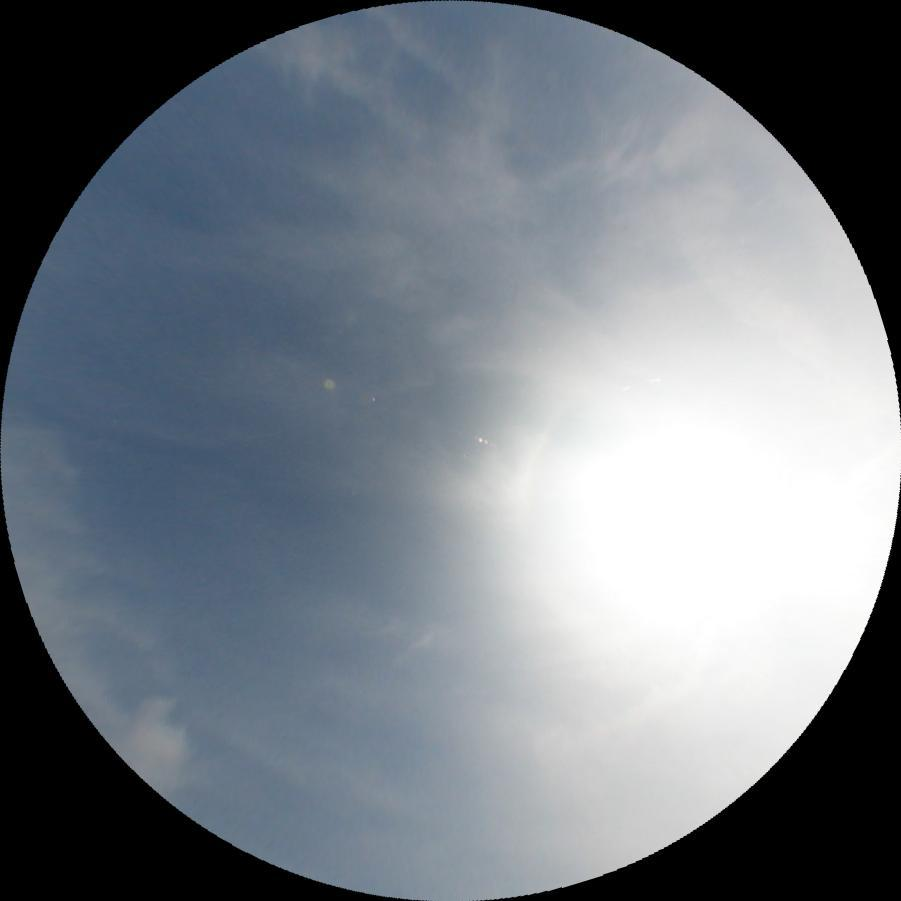contrail veryold: (365, 0, 476, 98)
sun: (598, 394, 824, 570)
